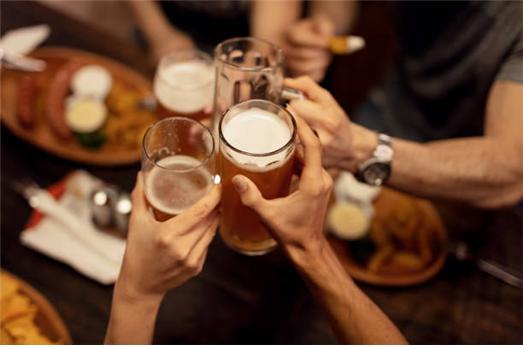alcohol: (219, 100, 296, 256), (215, 35, 285, 171), (144, 116, 216, 220), (154, 51, 211, 117)
